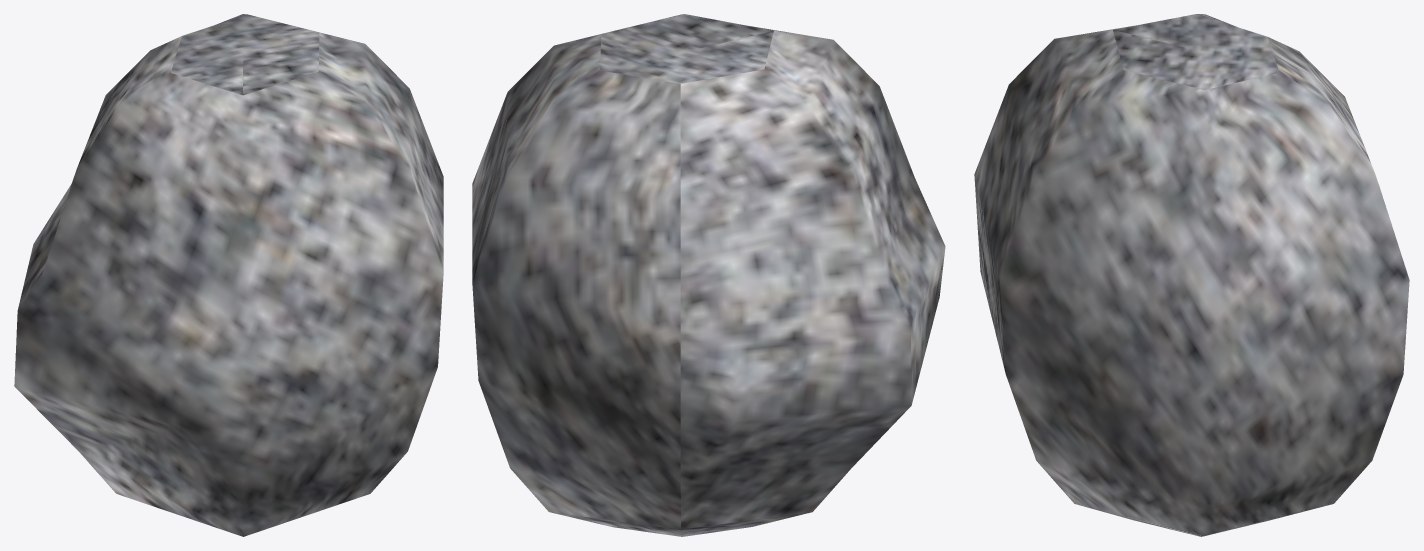
Rendered from Rock_Collectible.fbx.
3 views of the same model, side by side, from view 1: azimuth 30°, elevation 25°; view 2: azimuth 150°, elevation 25°; view 3: azimuth 270°, elevation 25° (orthographic). The views are drawn at different scales.
Parts seen in each view (by area): view 1: Collectible_Rock; view 2: Collectible_Rock; view 3: Collectible_Rock.
Part boxes in pixels (x1,y1,x2,y2): Collectible_Rock: (14,14,443,536); Collectible_Rock: (472,14,945,536); Collectible_Rock: (974,14,1409,536).
Bounding box in the file's own units: 39.03 × 38.95 × 33.81.
Materials: 1 (1 with a texture image).
